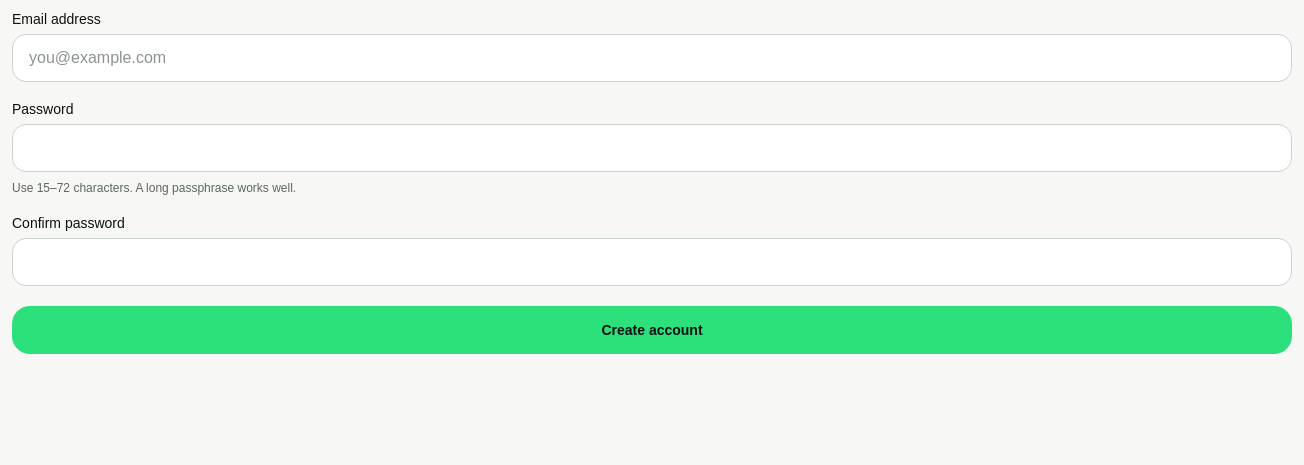
Scenario: auth forms › keeps signup credentials available for correction after validation fails
Type "fan@example.com" into the field labelled "Email address" at (652, 58), box [12,34,1292,82]
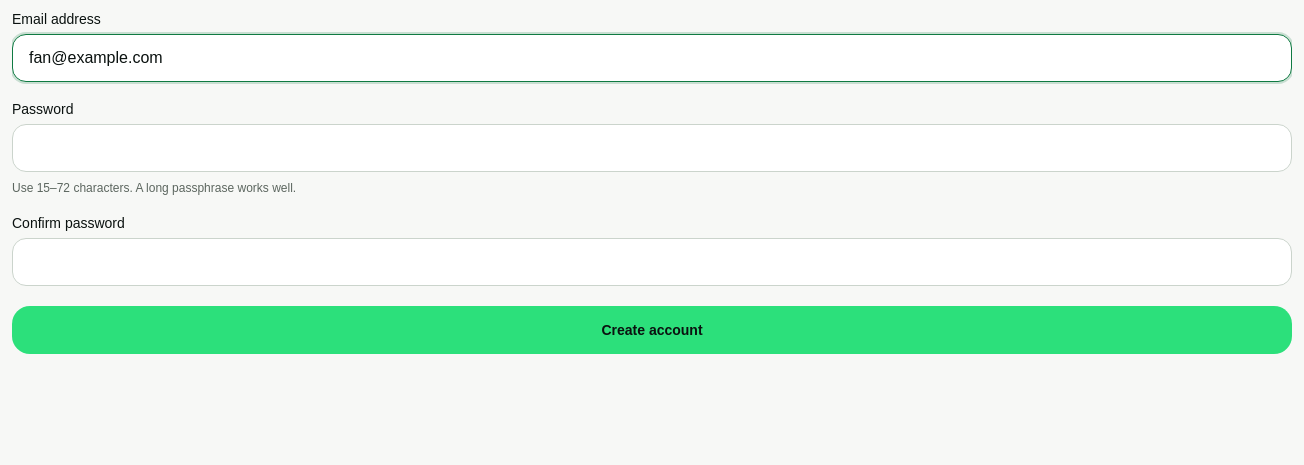
Type "matchday-strong" into the password field labelled "Password" at (652, 148), box [12,124,1292,172]
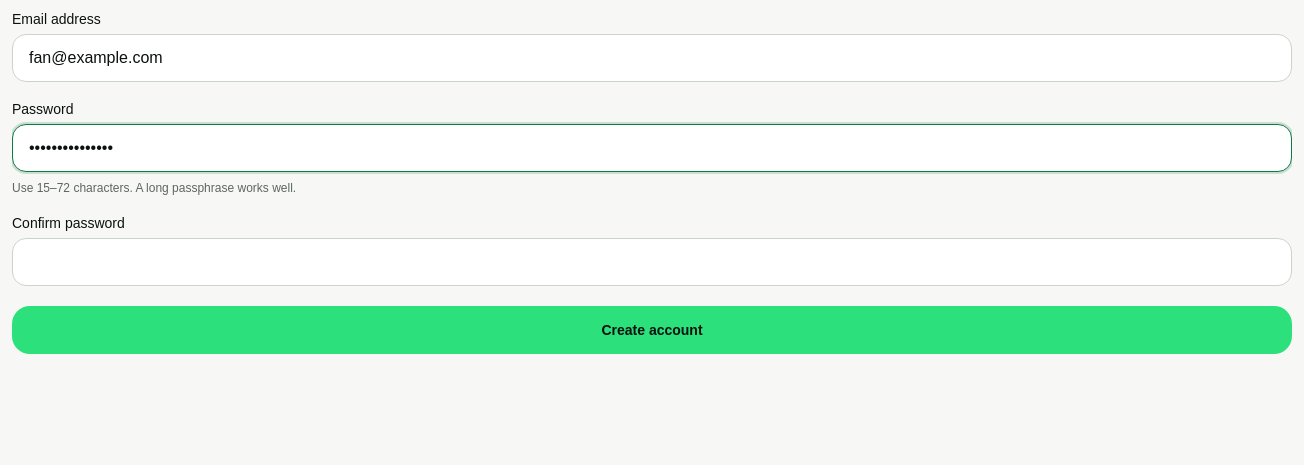
Type "different-password" into the password field labelled "Confirm password" at (652, 262), box [12,238,1292,286]
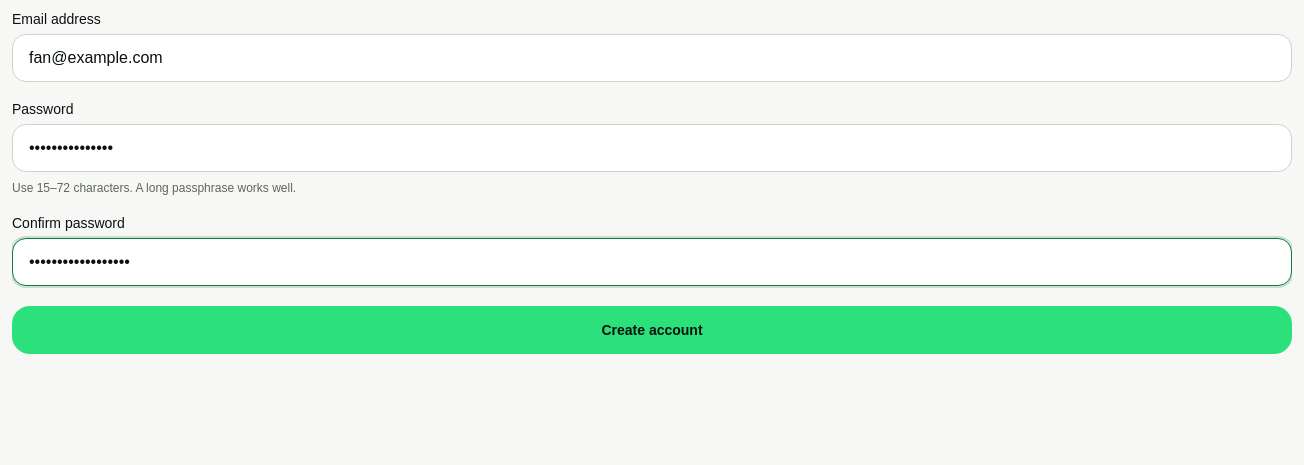
Click the button "Create account" at (652, 330), box [12,306,1292,354]
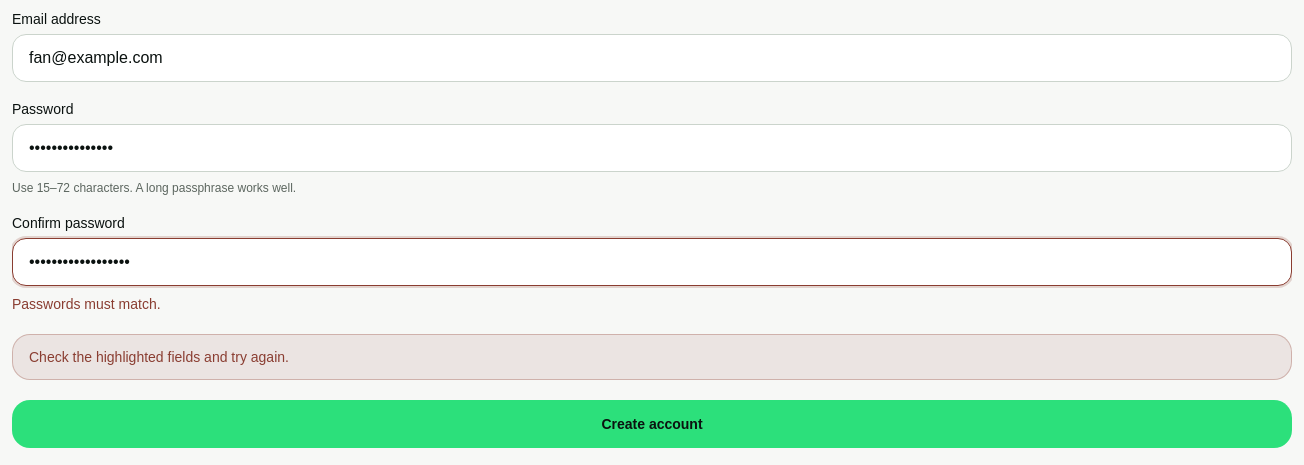
expect the text "Passwords must match." is shown: met, box [12,296,161,312]
